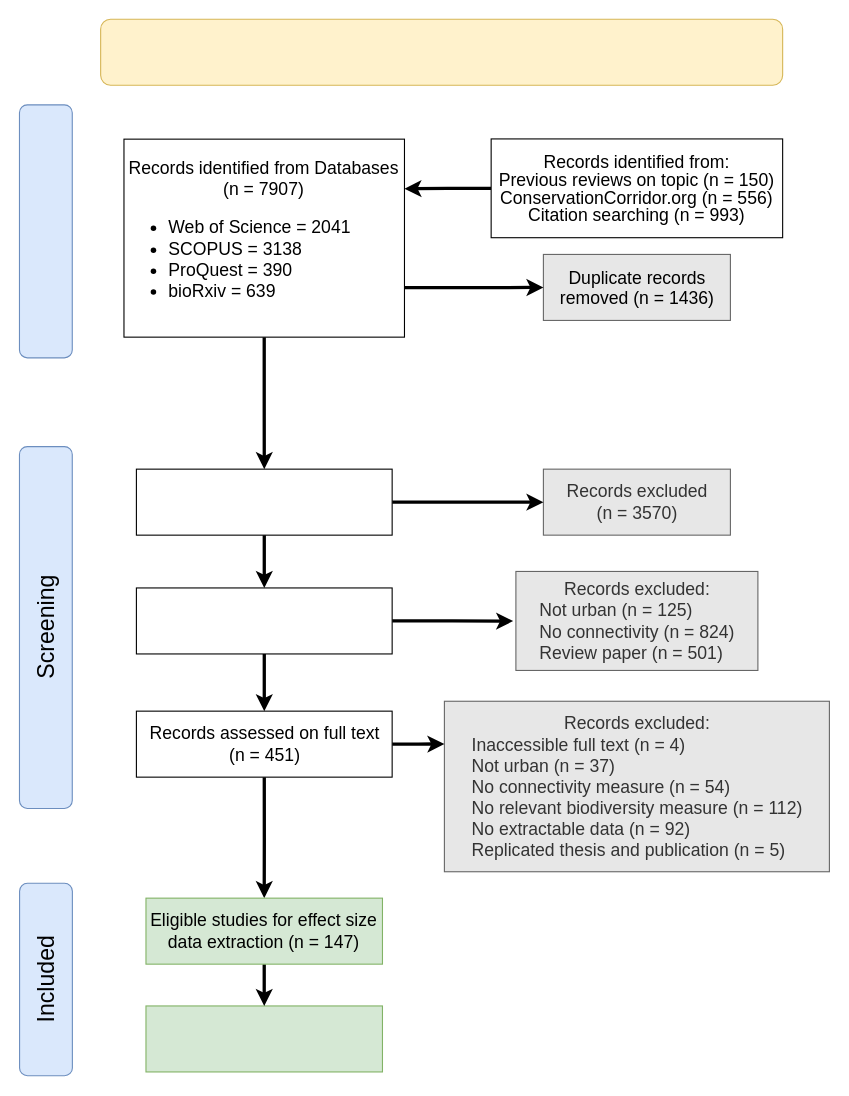
This 849x1096 diagram has some shape labels left out. Here are the shapes that lost their labels. From the top down, the box of each, then its label:
(100, 18, 783, 85): Identification of eligible studies for inclusion in meta-analysis
(18, 104, 72, 358): Identification
(135, 468, 392, 535): Records screened on titles (n = 6471)
(135, 587, 392, 654): Records screened on abstracts (n = 2901)
(145, 1005, 382, 1072): Total number of effect sizes for meta-analysis (n = 662)
